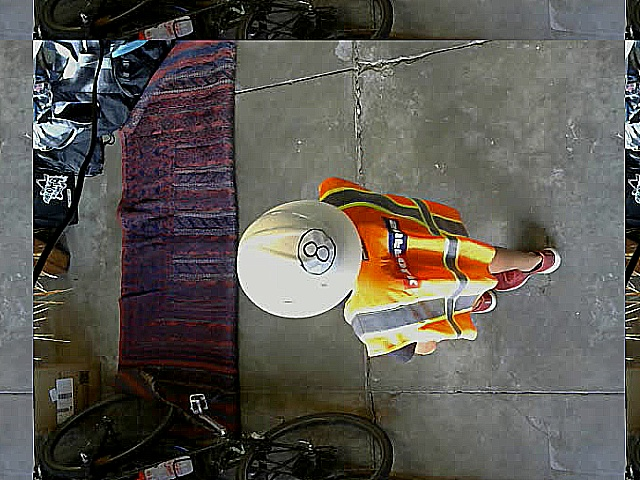eight: (296, 228, 334, 275)
